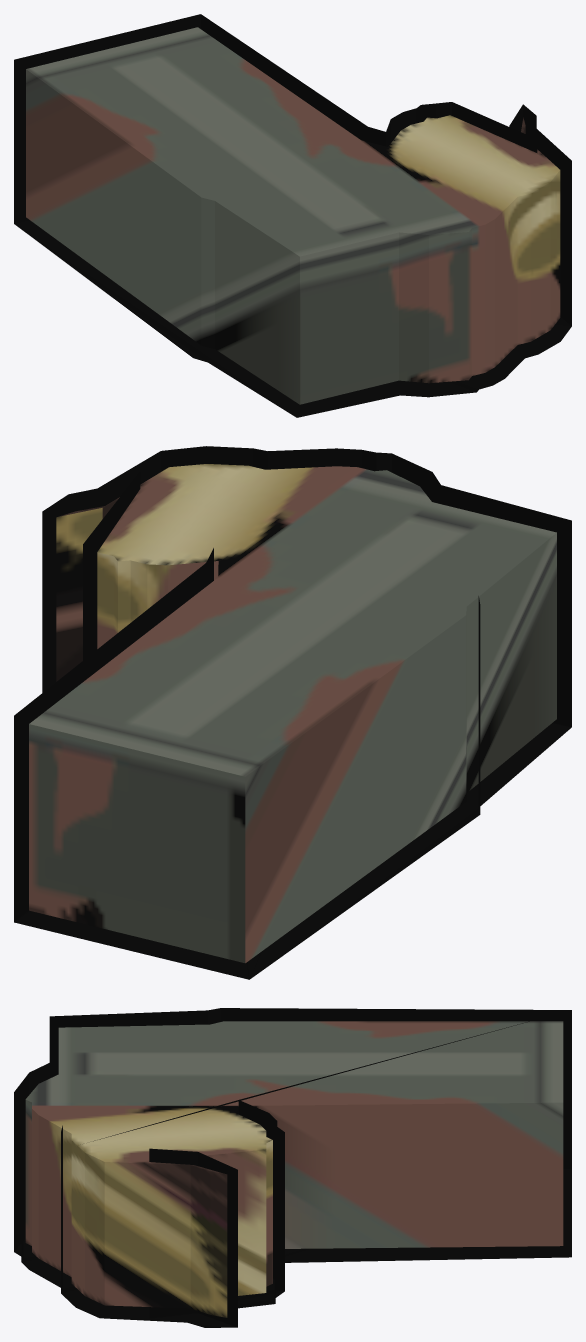
Rendered from Building_AncientAmmoStack_Things_Building_Ancient_MilitaryCompound_AncientAmmoStack_AncientAmmoStackB.glb.
3 views of the same model, one above another, from view 1: azimuth 30°, elevation 25°; view 2: azimuth 150°, elevation 25°; view 3: azimuth 270°, elevation 25° (orthographic). The views are drawn at different scales.
Visible parts, largest first — view 1: Body, Outline; view 2: Body, Outline; view 3: Body, Outline.
Part boxes in pixels (left/top/right/bottom): Body: left=26, top=27, right=560, bottom=404; Outline: left=14, top=14, right=571, bottom=417; Body: left=29, top=464, right=556, bottom=963; Outline: left=14, top=446, right=571, bottom=979; Body: left=25, top=1021, right=563, bottom=1317; Outline: left=14, top=1008, right=571, bottom=1327.
Bounding box in the file's own units: 0.8012 × 0.3969 × 1.18.
Materials: 2 (1 with a texture image).
